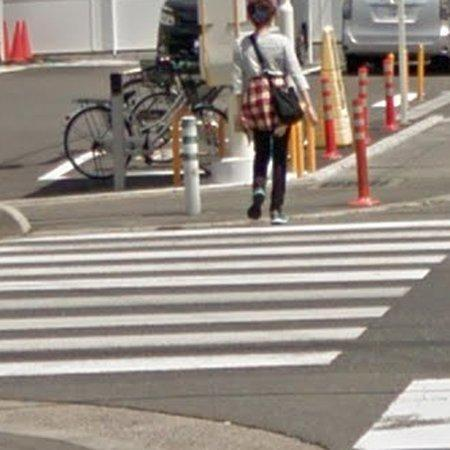crosswalks: (0, 224, 448, 378)
